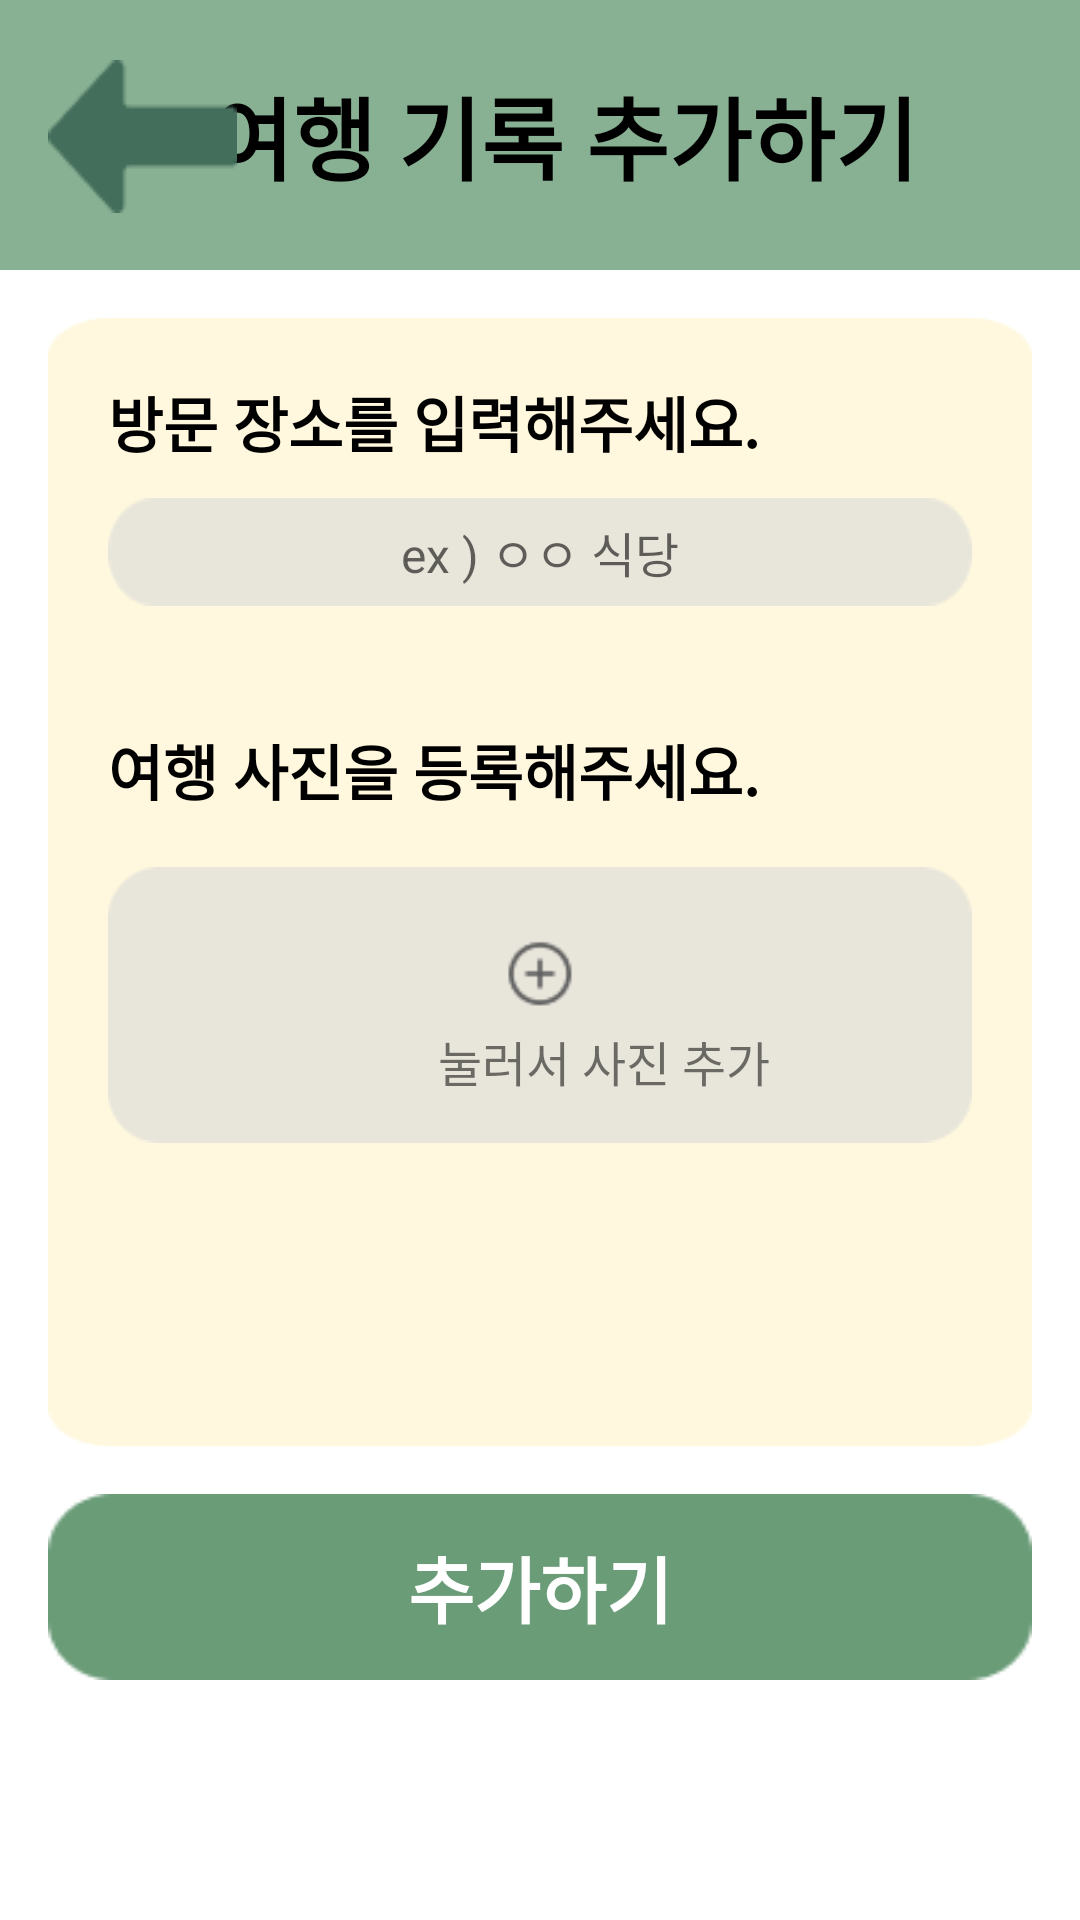

Where to tap for icons on this 1080*1920 app screen, as [x,y]:
back 버튼: [142,136]
